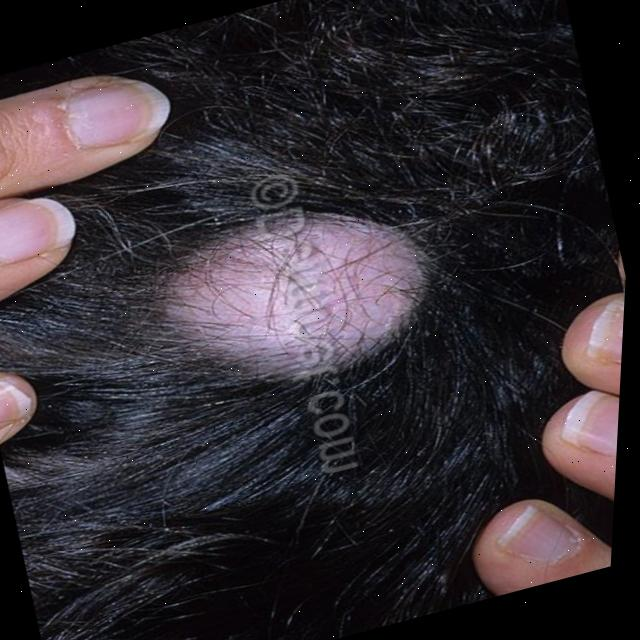Eczema: (157, 180, 449, 391)
